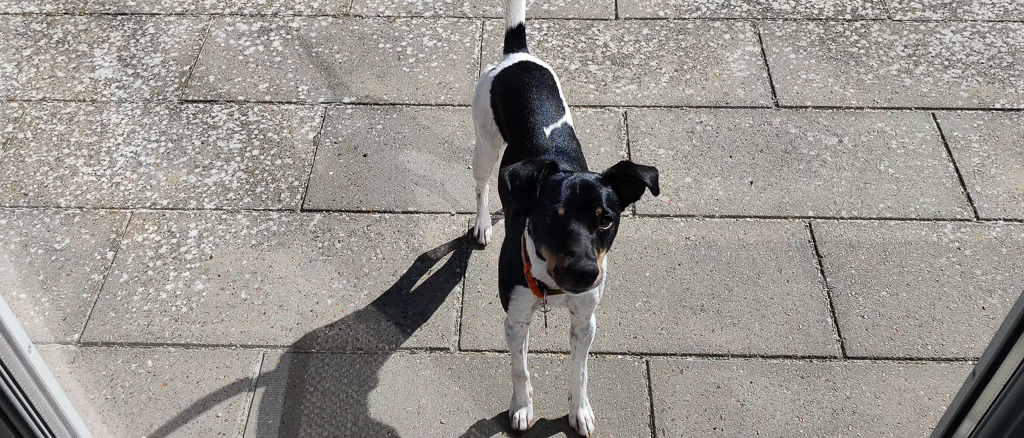Dog: (453, 0, 666, 438)
